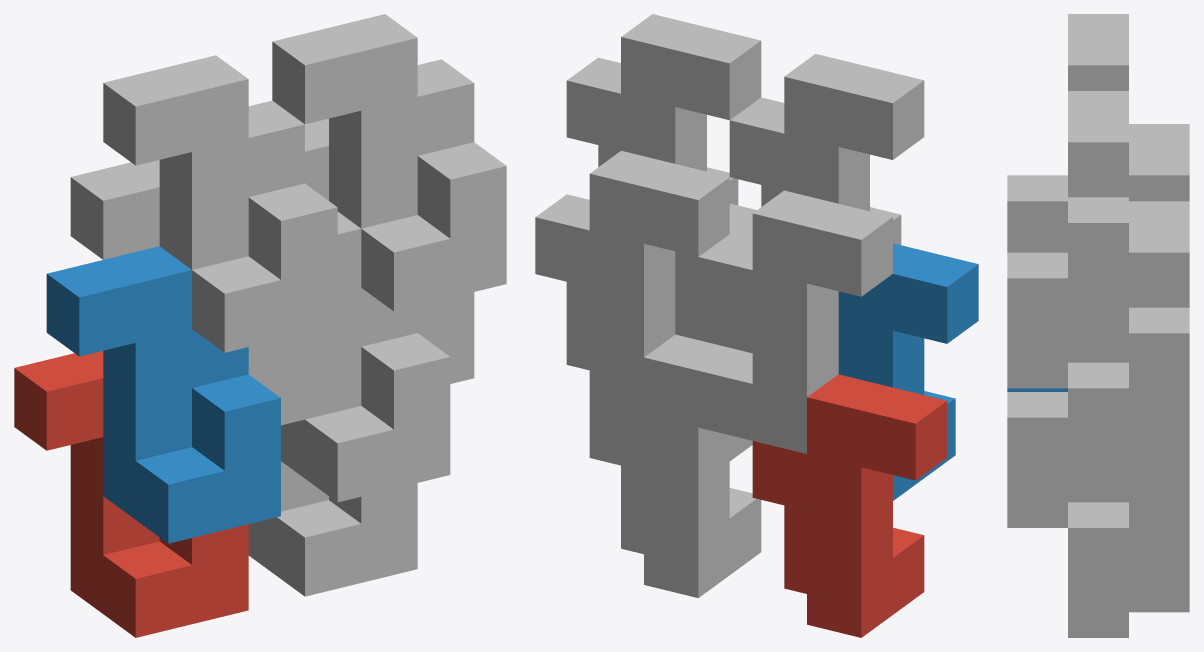
File: tiling.obj
3 renders of one model, left to right at view 1: azimuth 30°, elevation 25°; view 2: azimuth 150°, elevation 25°; view 3: azimuth 270°, elevation 25°, orthographic. The views are drawn at different scales.
Parts seen in each view (by area): view 1: copy_1_domain_4, copy_1_domain_8, copy_1_domain_2, copy_1_domain_6, copy_1_domain_1, copy_1_domain_5, copy_1_domain_3, copy_1_domain_7; view 2: copy_1_domain_1, copy_1_domain_5, copy_1_domain_7, copy_1_domain_3, copy_1_domain_4, copy_1_domain_8, copy_1_domain_2, copy_1_domain_6; view 3: copy_1_domain_7, copy_1_domain_8, copy_1_domain_5, copy_1_domain_4, copy_1_domain_6, copy_1_domain_3.
Boxes of the visible parts, x1=… form: copy_1_domain_4: x1=103, y1=55, x2=337, y2=352; copy_1_domain_8: x1=272, y1=14, x2=506, y2=311; copy_1_domain_2: x1=46, y1=246, x2=280, y2=543; copy_1_domain_6: x1=281, y1=211, x2=450, y2=502; copy_1_domain_1: x1=14, y1=351, x2=248, y2=637; copy_1_domain_5: x1=248, y1=461, x2=417, y2=596; copy_1_domain_3: x1=70, y1=160, x2=304, y2=425; copy_1_domain_7: x1=305, y1=118, x2=474, y2=383; copy_1_domain_1: x1=752, y1=374, x2=947, y2=637; copy_1_domain_5: x1=589, y1=334, x2=761, y2=597; copy_1_domain_7: x1=535, y1=150, x2=729, y2=414; copy_1_domain_3: x1=698, y1=190, x2=892, y2=453; copy_1_domain_4: x1=729, y1=54, x2=924, y2=244; copy_1_domain_8: x1=566, y1=14, x2=761, y2=205; copy_1_domain_2: x1=838, y1=243, x2=978, y2=500; copy_1_domain_6: x1=675, y1=203, x2=756, y2=461; copy_1_domain_7: x1=1068, y1=201, x2=1189, y2=498; copy_1_domain_8: x1=1007, y1=91, x2=1128, y2=388; copy_1_domain_5: x1=1068, y1=472, x2=1189, y2=637; copy_1_domain_4: x1=1007, y1=14, x2=1128, y2=252; copy_1_domain_6: x1=1007, y1=392, x2=1128, y2=527; copy_1_domain_3: x1=1129, y1=124, x2=1189, y2=201.
Bounding box in the file's own units: 7 × 9 × 3.
